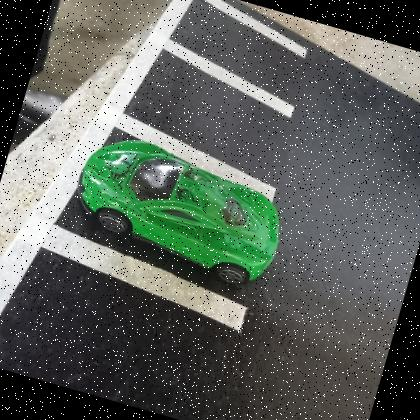Car: (77, 139, 279, 287)
